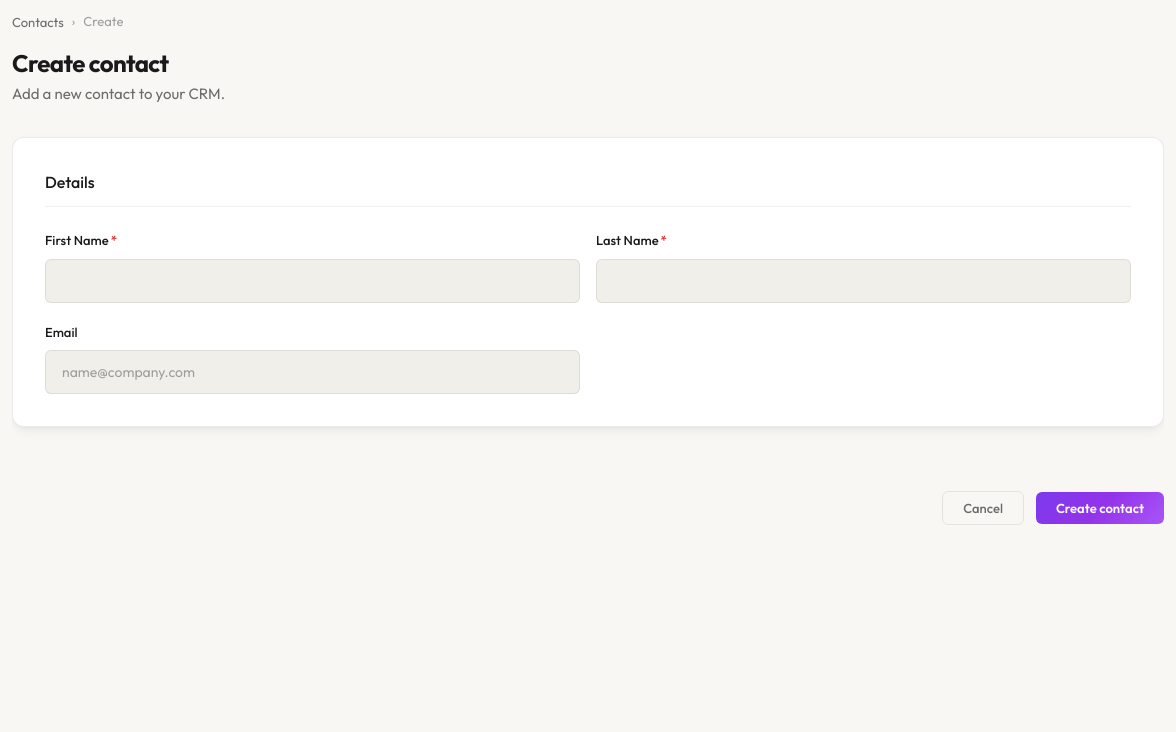
Test: CreateRecordPage › shows an error when the API returns an error
Step 1. Type "John" into the field labelled "First Name*" → [312, 281], box [45,259,580,303]
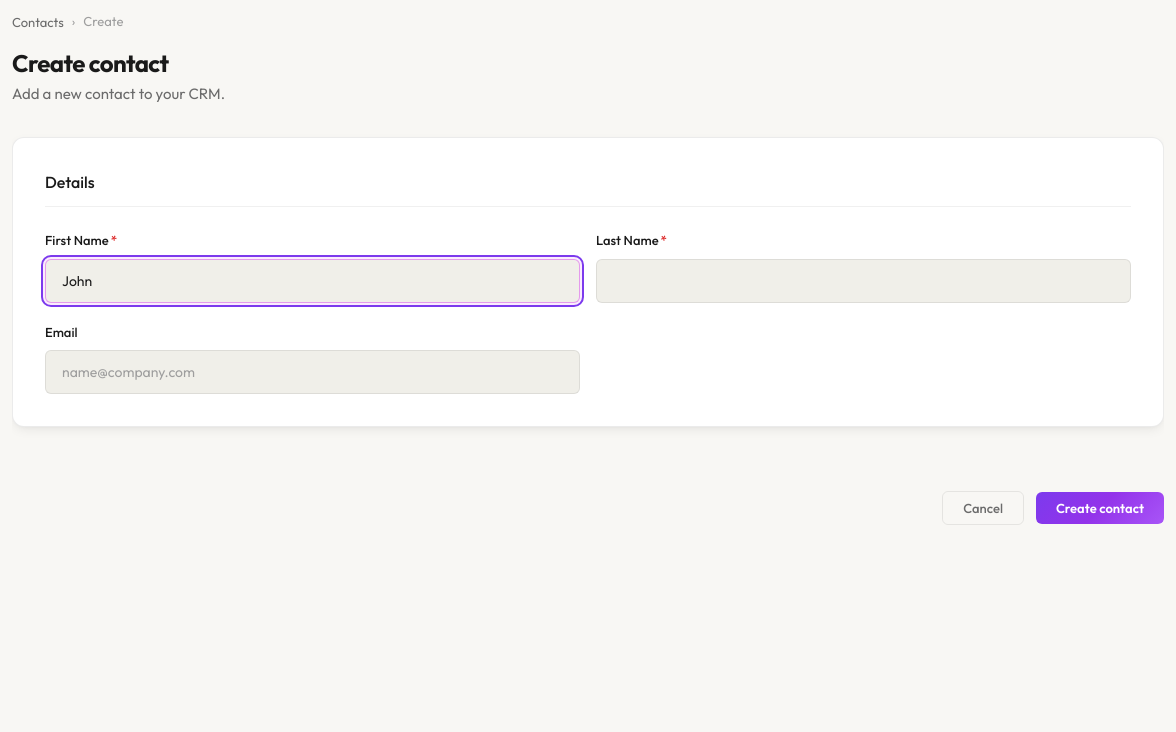
Step 2. Type "Doe" into the field labelled "Last Name*" → [864, 281], box [596,259,1131,303]
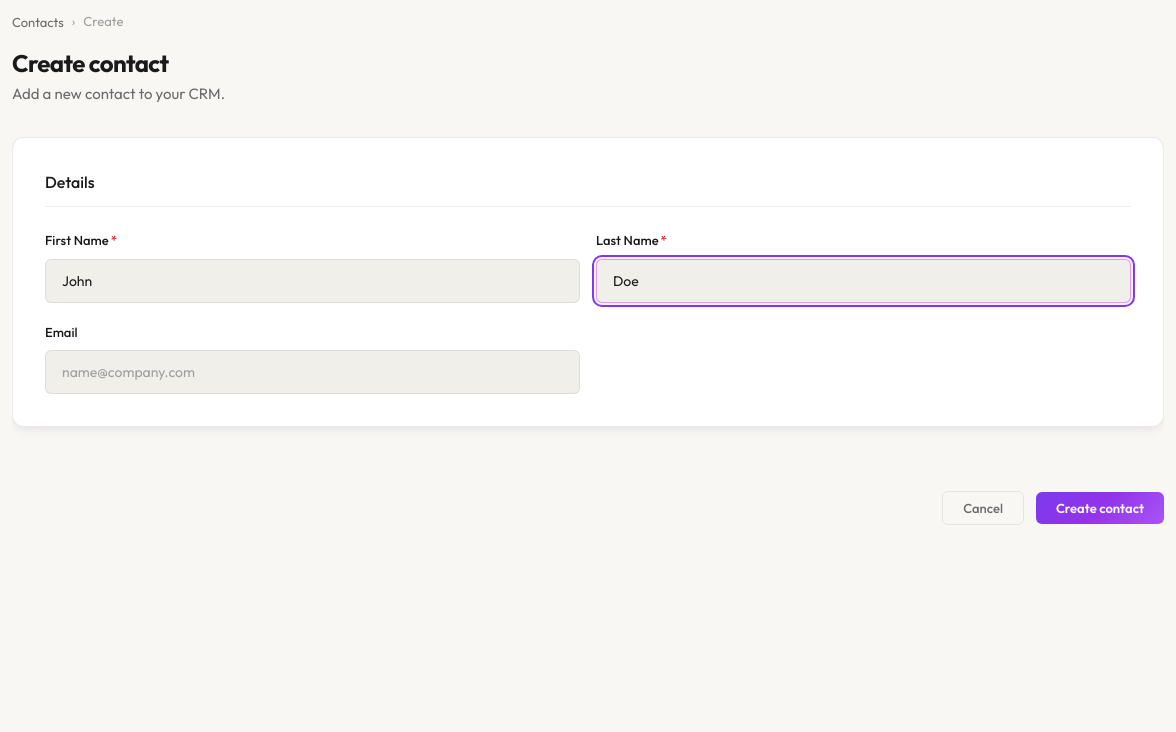
Step 3. Click the button "Create contact" → [1100, 508], box [1036,492,1164,524]
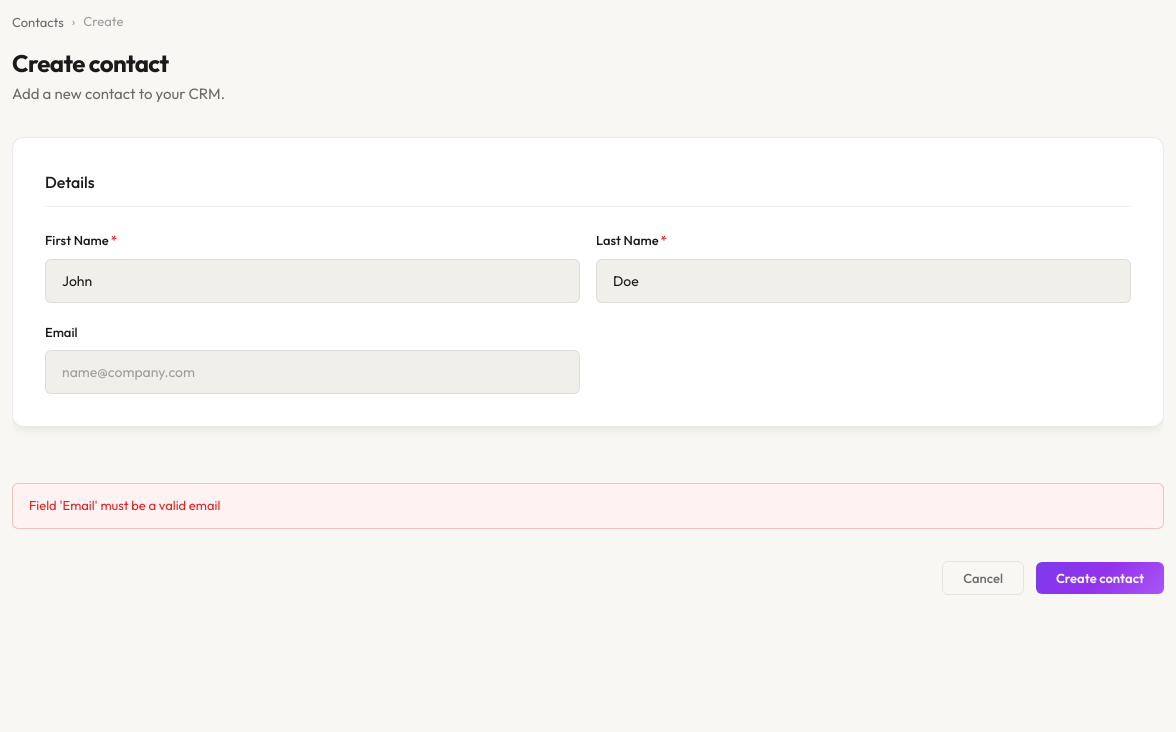
Check: the message reads "Field 'Email' must be a valid email", box [29,497,220,513]
